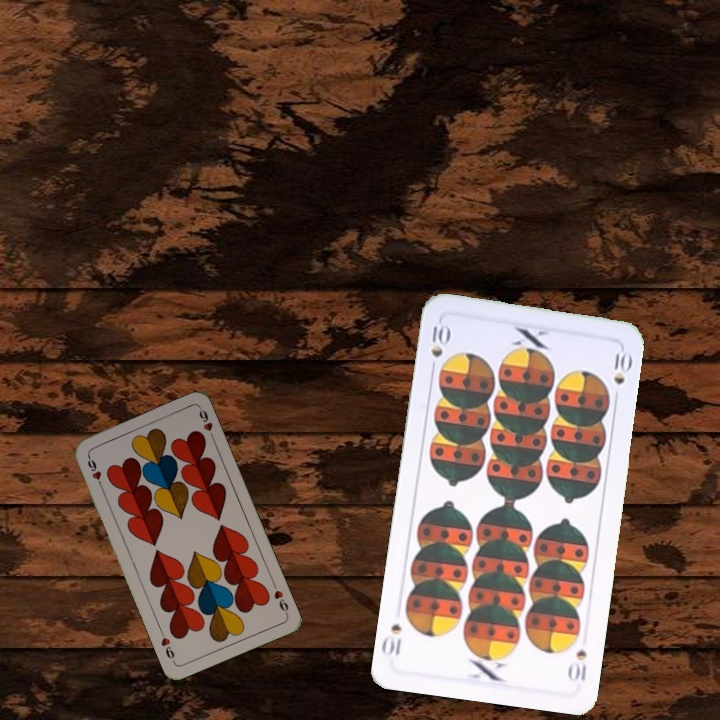H9: (269, 578, 291, 617), (83, 452, 104, 491)
S10: (426, 317, 452, 376), (564, 645, 589, 684)
